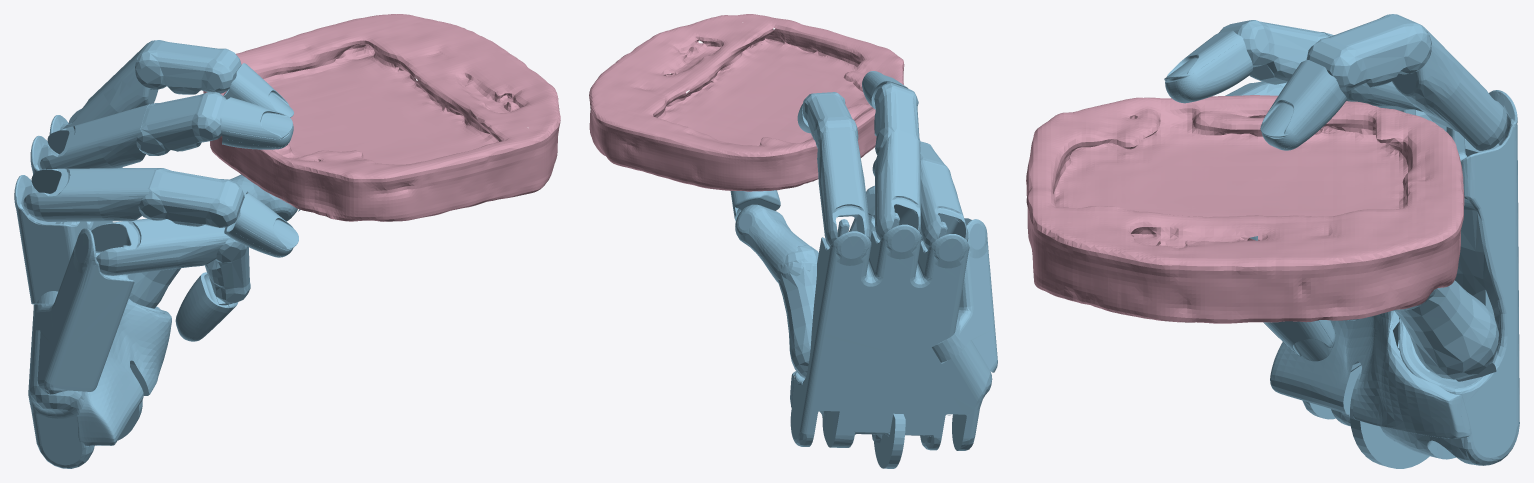
3 views of the same model, side by side, from view 1: azimuth 30°, elevation 25°; view 2: azimuth 150°, elevation 25°; view 3: azimuth 270°, elevation 25° (orthographic). The views are drawn at different scales.
Parts seen in each view (by area): view 1: hand, world; view 2: hand, world; view 3: world, hand.
Boxes of the visible parts, x1,y1,x2,y2 form: hand: [14, 40, 300, 468]; world: [203, 14, 560, 221]; hand: [730, 71, 997, 468]; world: [589, 14, 904, 191]; world: [1026, 95, 1464, 323]; hand: [1164, 14, 1519, 468].
Bounding box in the file's own units: 0.1988 × 0.1598 × 0.1482.
